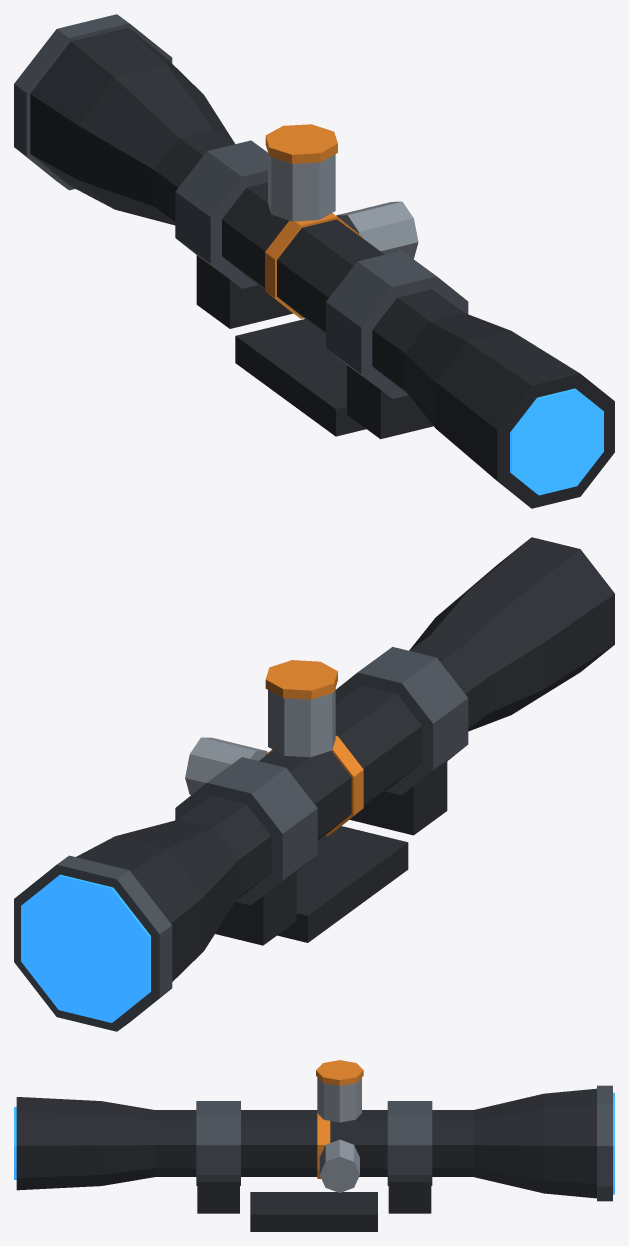
Rendered from att_scope.glb.
3 renders of one model, top to bottom at view 1: azimuth 30°, elevation 25°; view 2: azimuth 150°, elevation 25°; view 3: azimuth 270°, elevation 25°, orthographic. The views are drawn at different scales.
Parts seen in each view (by area): view 1: Body; view 2: Body; view 3: Body.
Part boxes in pixels (x1=…): Body: x1=14, y1=14, x2=614, y2=508; Body: x1=14, y1=537, x2=614, y2=1031; Body: x1=14, y1=1060, x2=614, y2=1231.
Size of the model in its own units: 0.0599 by 0.0781 by 0.2826.
